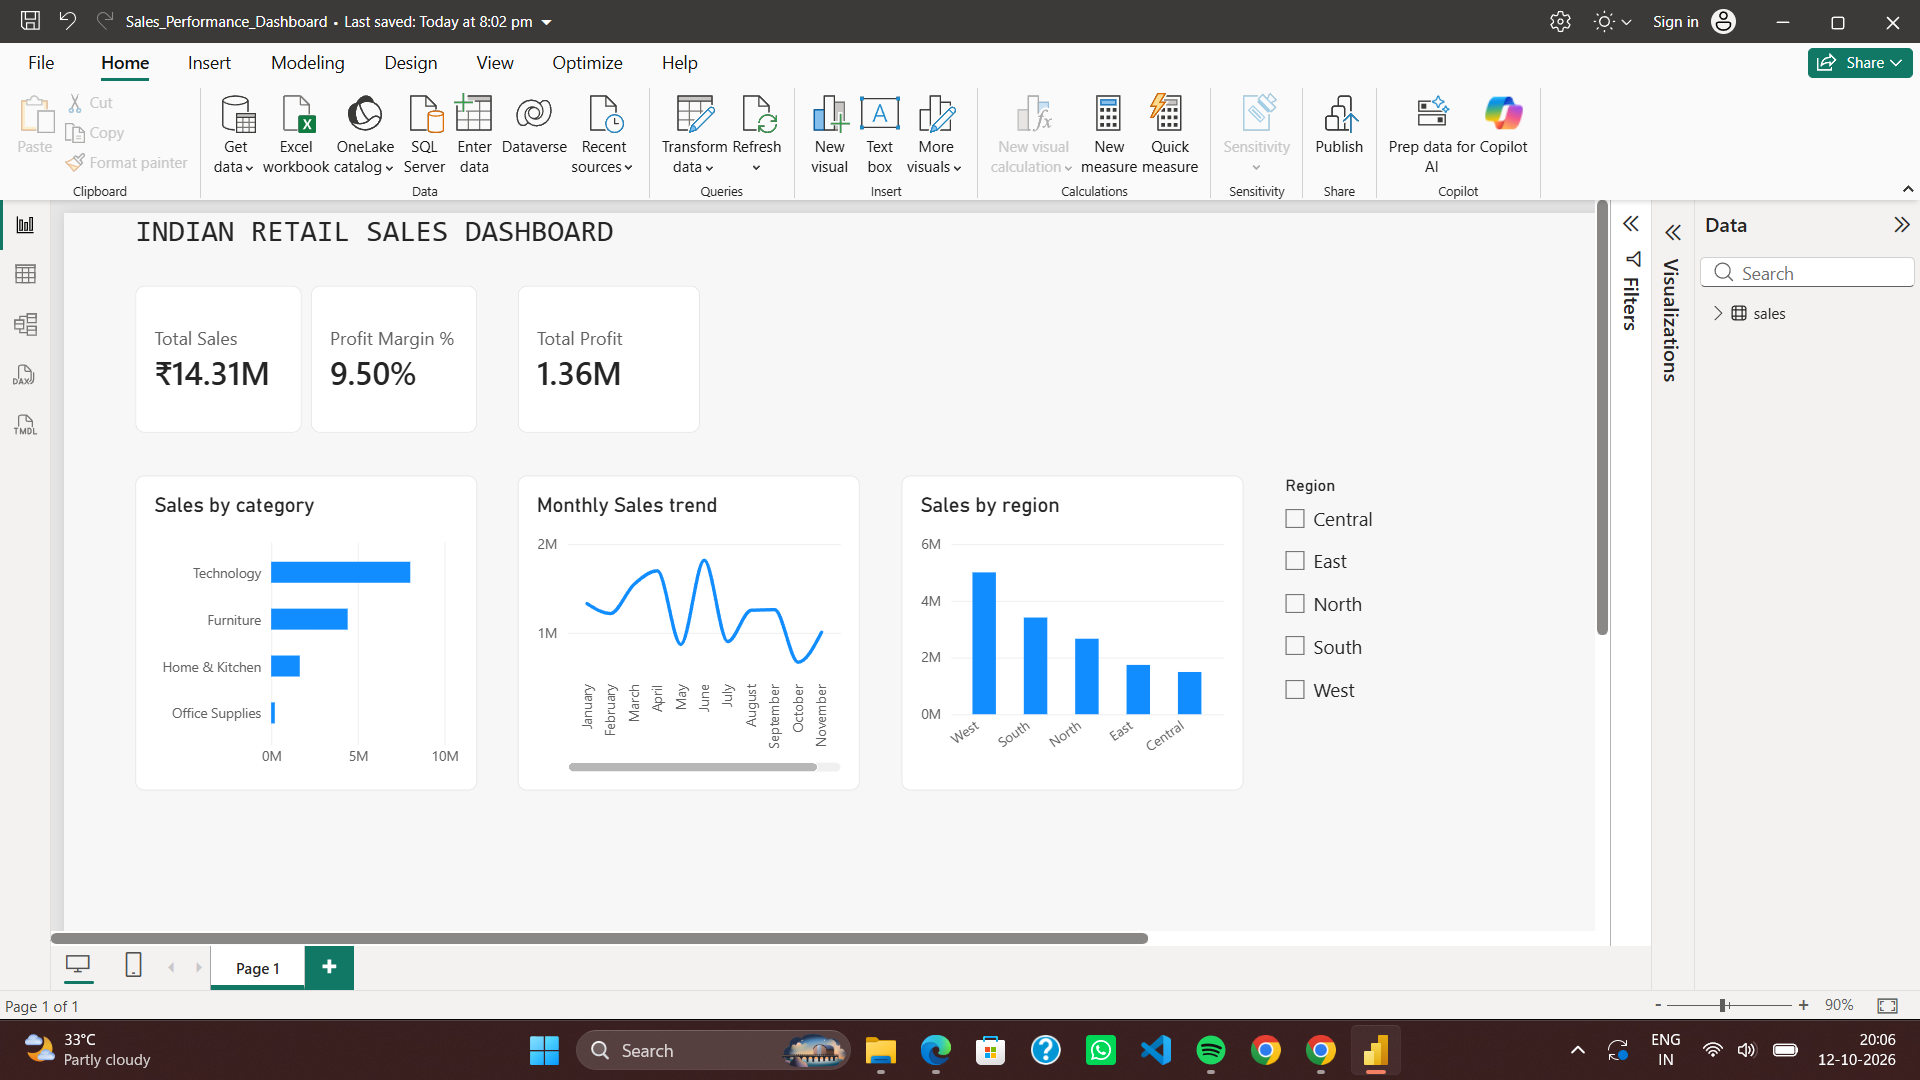

What the dashboard file says about the page in this screenshot:
{"tool":"powerbi","page":{"name":"Page 1","canvas":[1920,1080],"ordinal":0},"visuals":[{"type":"cardVisual","fields":{"Data":["sales.Total Sales","sales.Profit Margin %"]},"box":[63.3,64.4,304.4,131.1],"z":0},{"type":"cardVisual","fields":{"Data":["sales.Total Profit"]},"box":[403.3,64.4,162.2,131.1],"z":1000},{"type":"clusteredBarChart","title":"Sales by category","fields":{"Category":["sales.Category"],"Y":["Sum(sales.Sales)"]},"box":[63.3,233.3,304,280],"z":2000},{"type":"lineChart","title":"Monthly Sales trend","fields":{"Category":["sales.Order Date.Variation.Date Hierarchy.Year","sales.Order Date.Variation.Date Hierarchy.Quarter","sales.Order Date.Variation.Date Hierarchy.Month","sales.Order Date.Variation.Date Hierarchy.Day"],"Y":["Sum(sales.Sales)"]},"box":[403.3,233.3,304,280],"z":3000},{"type":"clusteredColumnChart","title":"Sales by region","fields":{"Category":["sales.Region"],"Y":["Sum(sales.Sales)"]},"box":[744.4,233.3,304,280],"z":4000},{"type":"slicer","fields":{"Values":["sales.Region"]},"box":[1077.8,233.3,257.8,280],"z":5000},{"type":"textbox","box":[63.3,0,432.2,74.4],"z":5001}]}

Visuals, with their boxes on the page's 1920x1080 design canvas (x1, y1, x2, y2). These are canvas units, not pixel positions in the 1920x1080 screenshot, which may show the page scaled, cropped or inside an application window:
cardVisual - sales.Total Sales x sales.Profit Margin %: 63:64:368:196
cardVisual - sales.Total Profit: 403:64:566:196
"Sales by category" clusteredBarChart: 63:233:367:513
"Monthly Sales trend" lineChart: 403:233:707:513
"Sales by region" clusteredColumnChart: 744:233:1048:513
slicer - sales.Region: 1078:233:1336:513
textbox: 63:0:496:74
